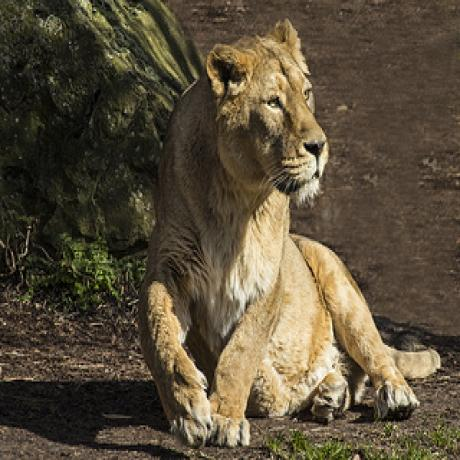Lion: (130, 5, 441, 444)
